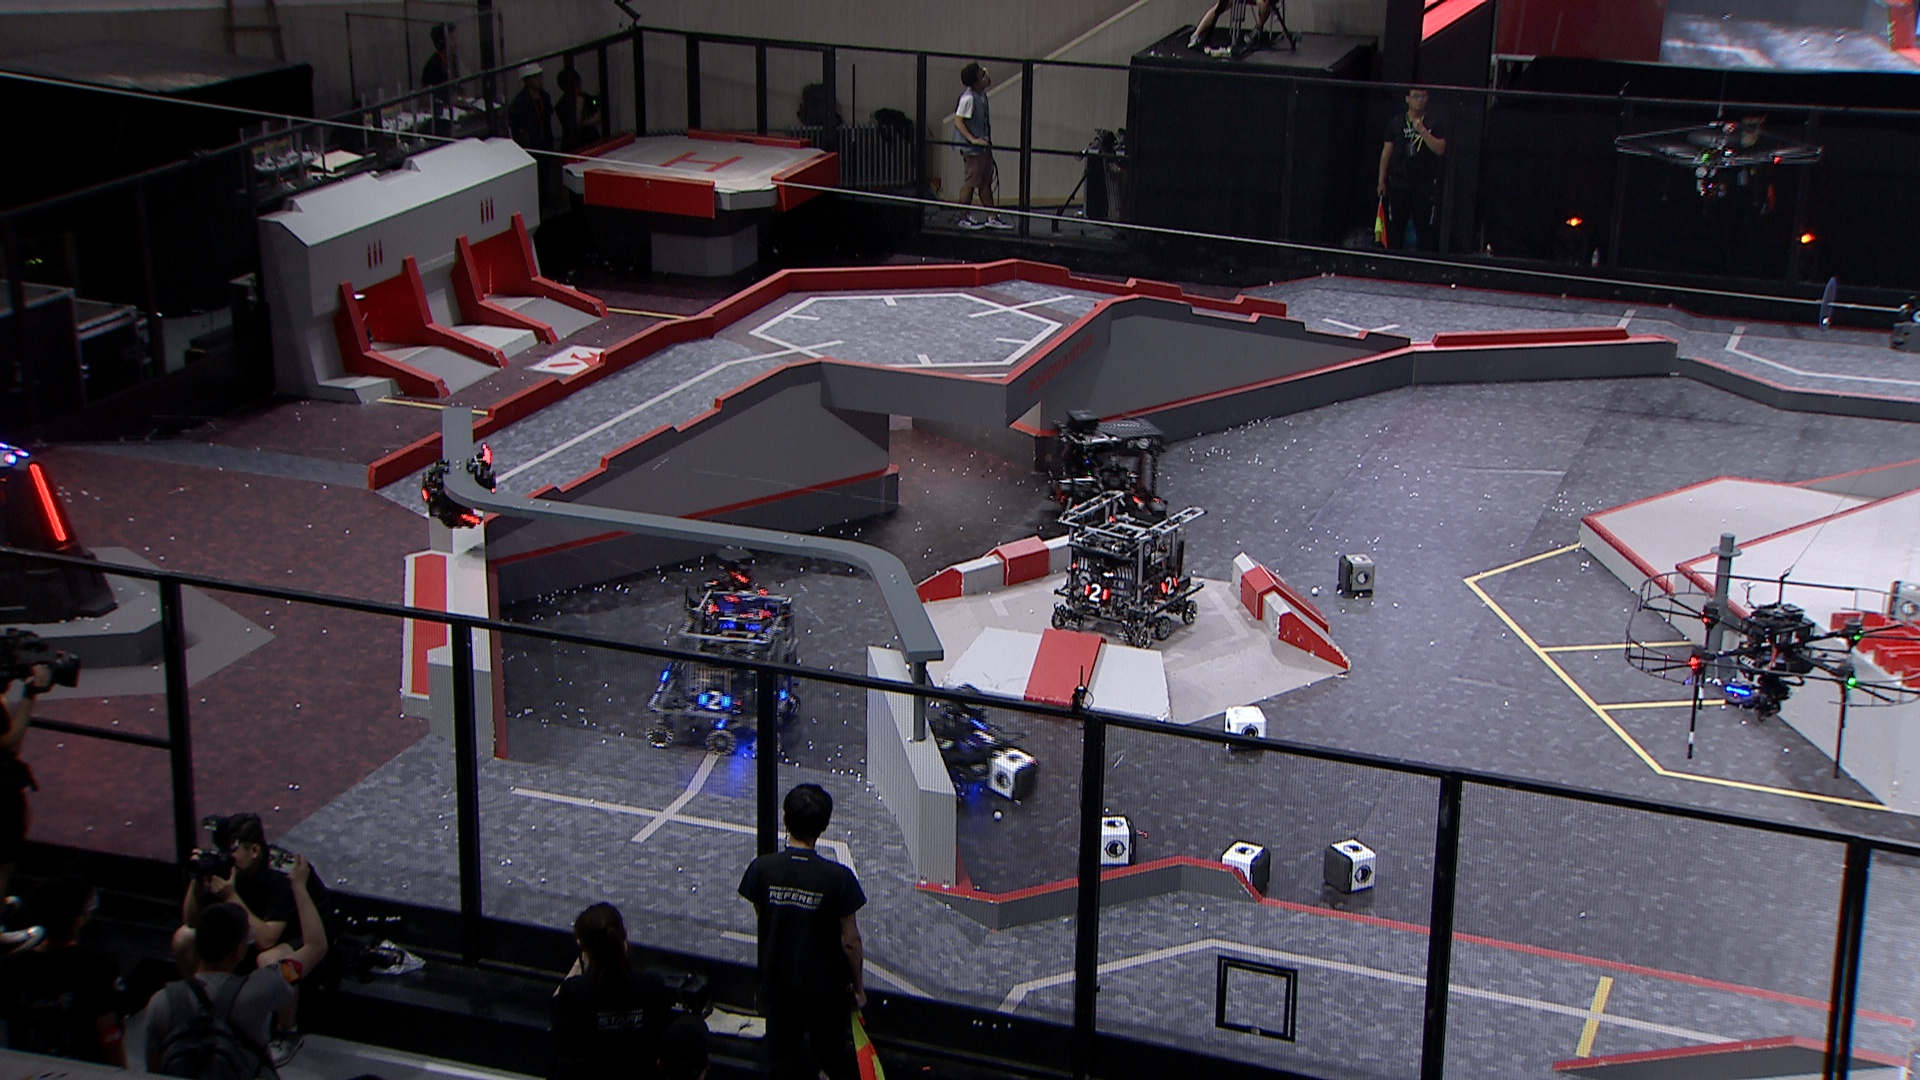armor: (26, 462, 71, 545), (969, 727, 998, 750), (699, 690, 731, 711), (1081, 582, 1109, 603), (727, 583, 766, 597), (1109, 495, 1141, 508), (741, 608, 773, 621), (1162, 574, 1182, 593), (1059, 495, 1079, 514), (700, 600, 719, 615), (782, 678, 795, 698)
car: (1048, 485, 1203, 650), (642, 599, 802, 756), (1040, 404, 1168, 533), (916, 678, 1015, 804), (683, 538, 787, 626)
watcher: (414, 439, 506, 531)
